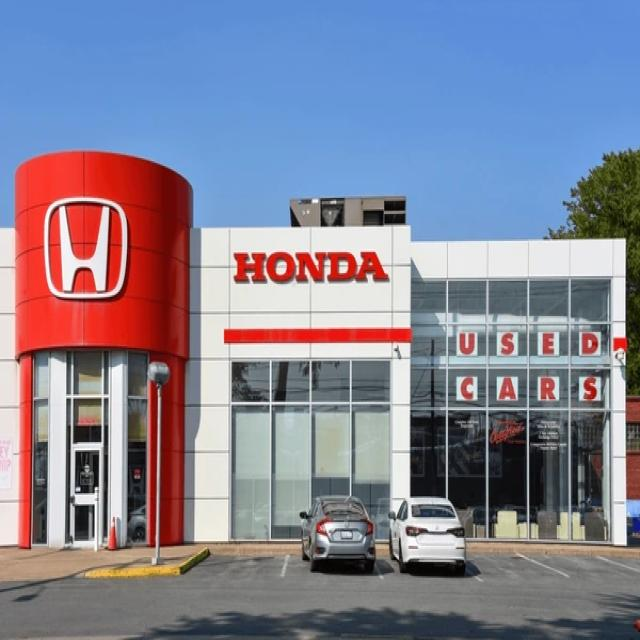honda: (39, 193, 134, 308)
